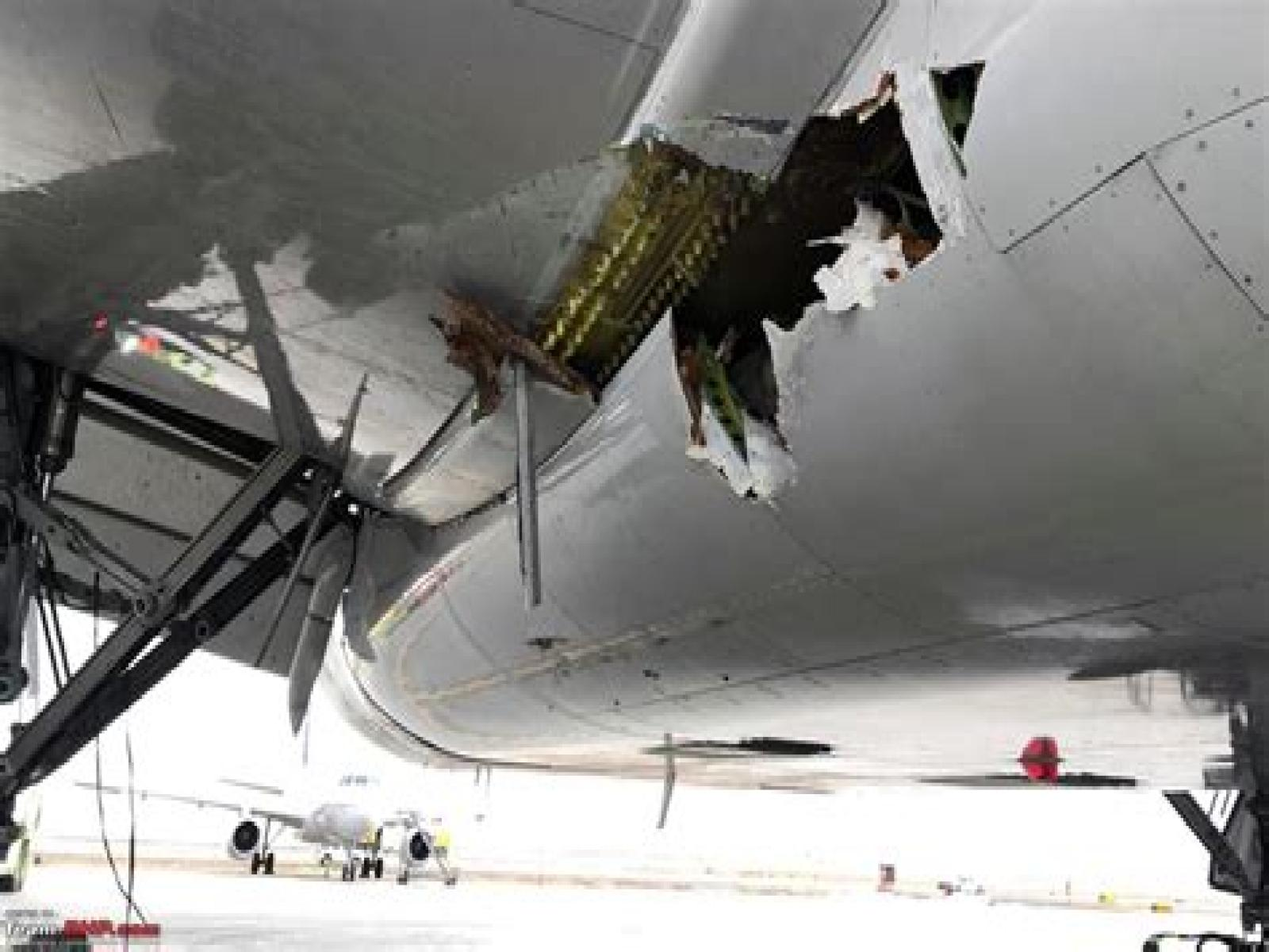Fuselage_damage: (431, 60, 983, 462)
